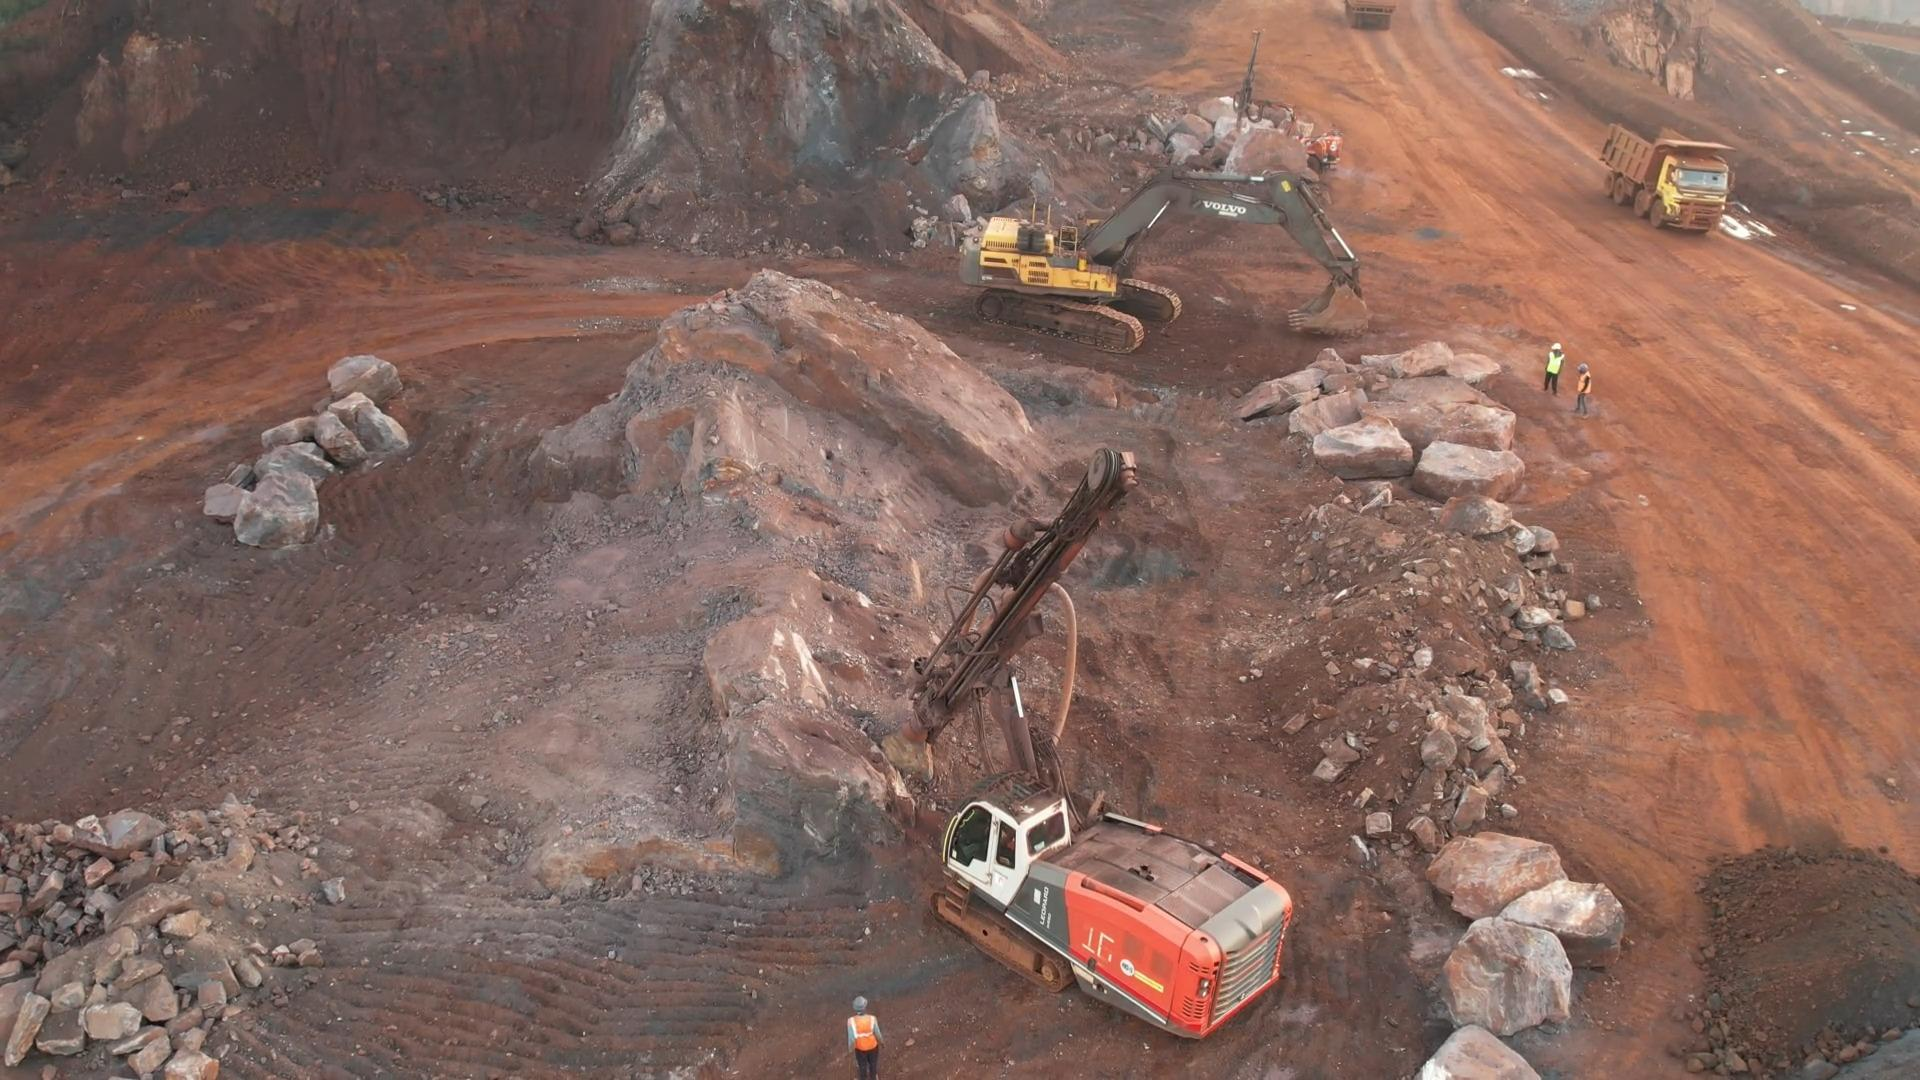excavator: (977, 178, 1347, 346)
